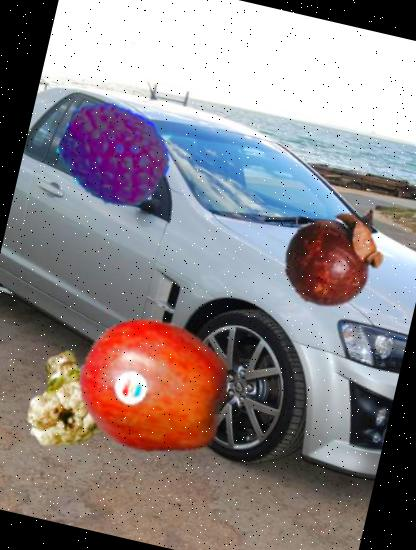Apple: (64, 296, 244, 477)
Cauliflower: (9, 336, 132, 460)
Mangostan: (271, 194, 403, 326)
Raspberry: (47, 90, 180, 222)
